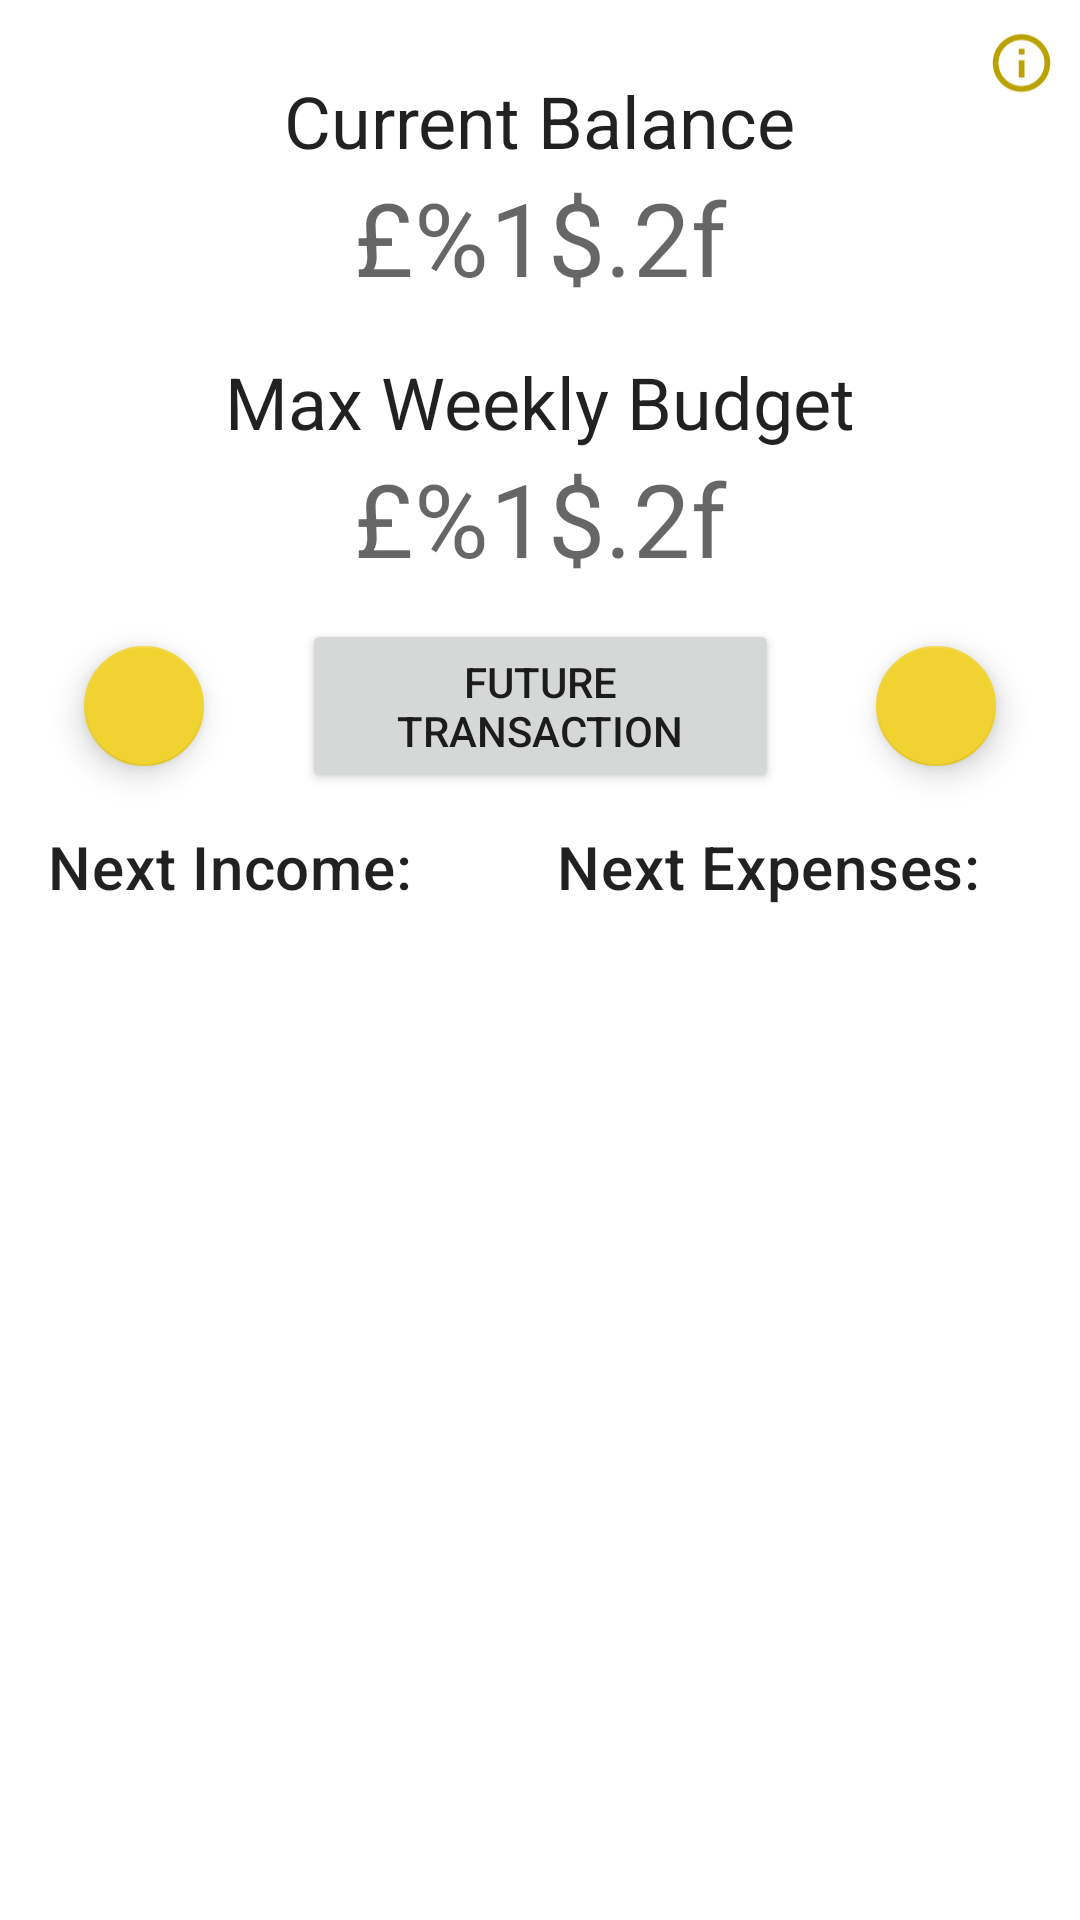

Icon click points for this 1080 x 1920 phone screenshot, format (x=x, y=y):
info: (x=1021, y=63)
